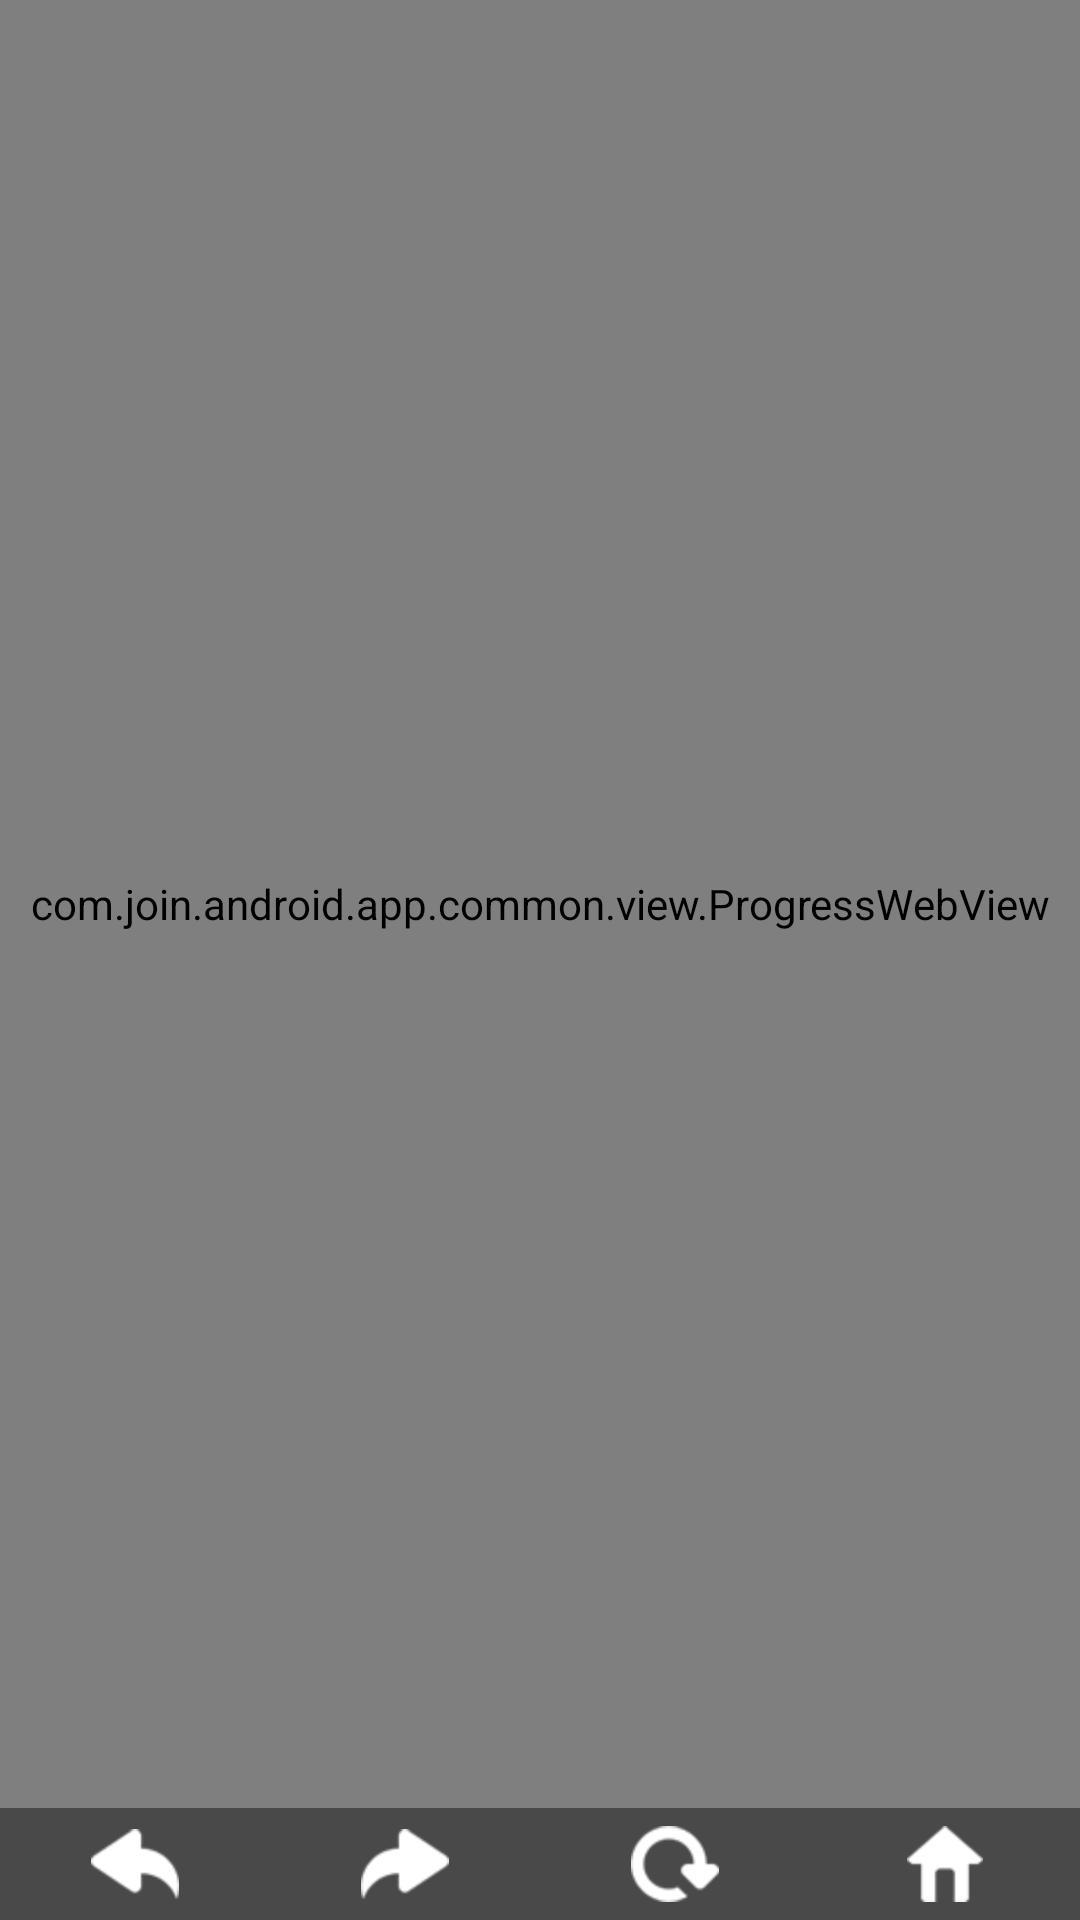

Screen size 1080 x 1920. Icon name, then its center in pixels as [x,y]:
forward: [405,1864]
home: [945,1864]
previous: [135,1864]
refresh: [675,1864]
